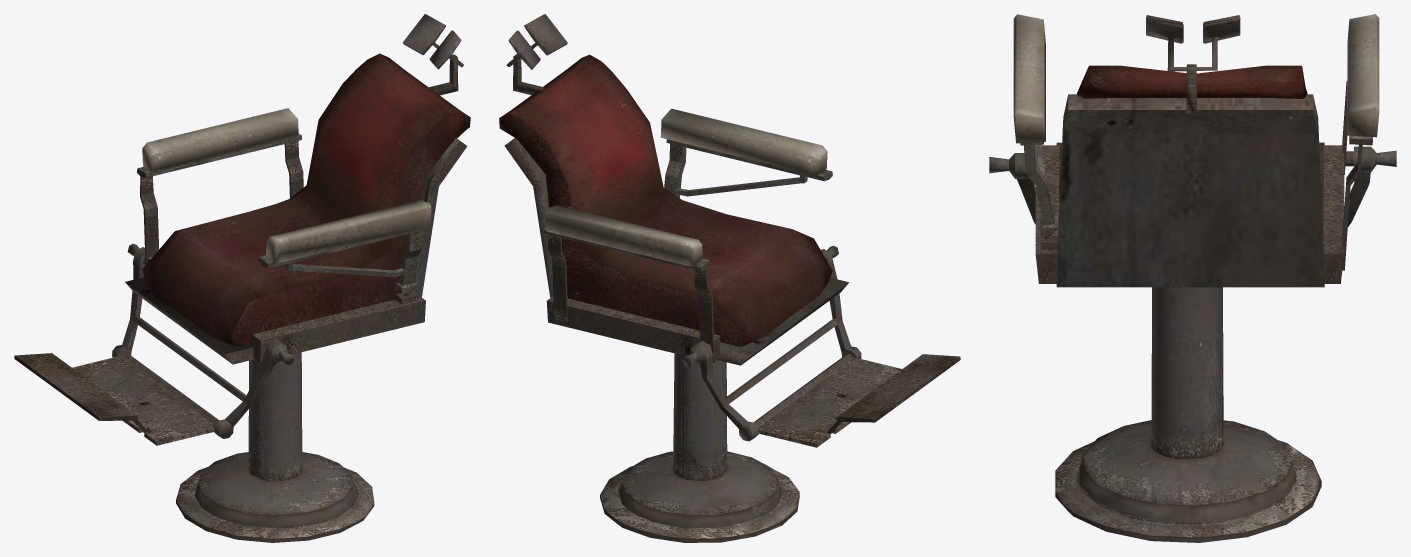
Rendered from chair_kleiner03a.glb.
The picture shows the model from 3 angles, left to right: view 1: azimuth 30°, elevation 25°; view 2: azimuth 150°, elevation 25°; view 3: azimuth 270°, elevation 25°; orthographic projection. The views are drawn at different scales.
Parts seen in each view (by area): view 1: 0_chair_kleiner03a; view 2: 0_chair_kleiner03a; view 3: 0_chair_kleiner03a.
Part boxes in pixels (bbox=[...]): 0_chair_kleiner03a: bbox=[14, 14, 470, 542]; 0_chair_kleiner03a: bbox=[499, 14, 960, 542]; 0_chair_kleiner03a: bbox=[989, 14, 1396, 542].
Size of the model in its own units: 1.73 by 1.78 by 1.13.
1 material, 1 textured.
